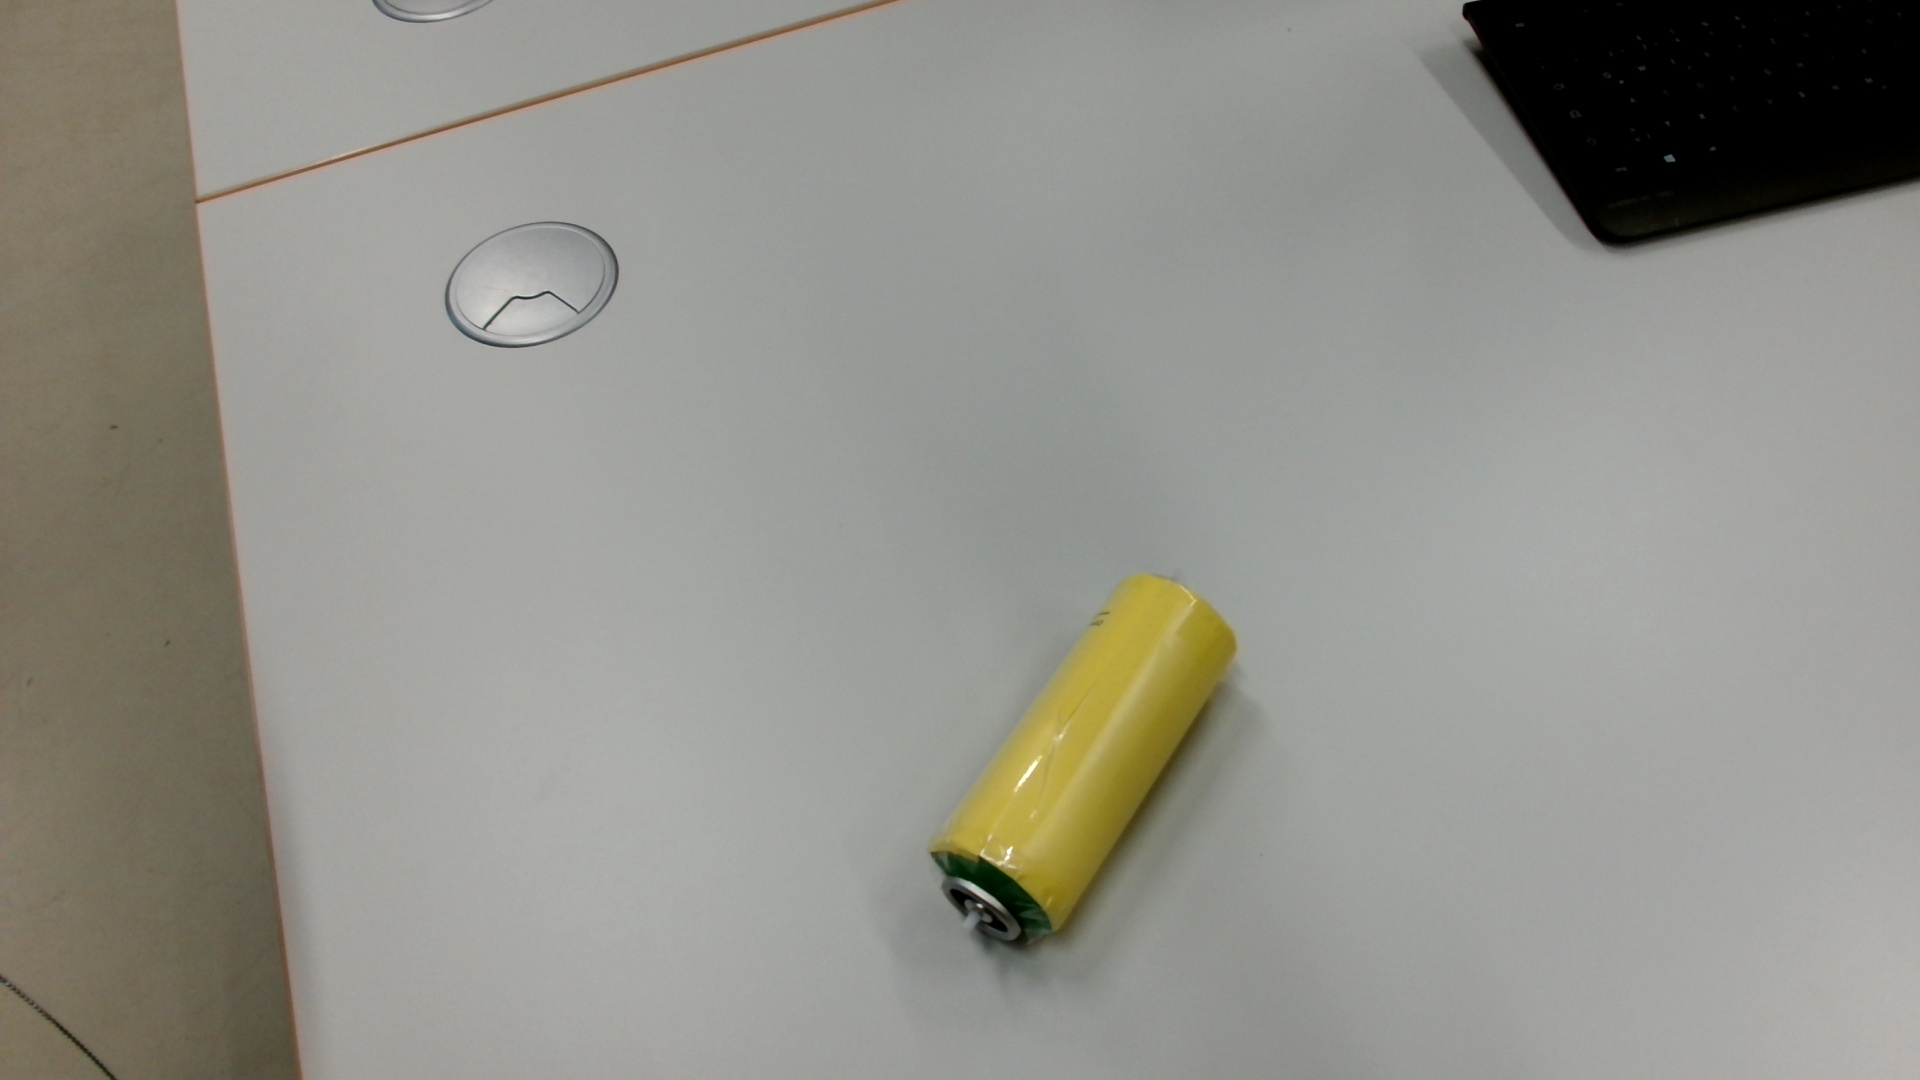Cylinder: (919, 560, 1249, 964)
